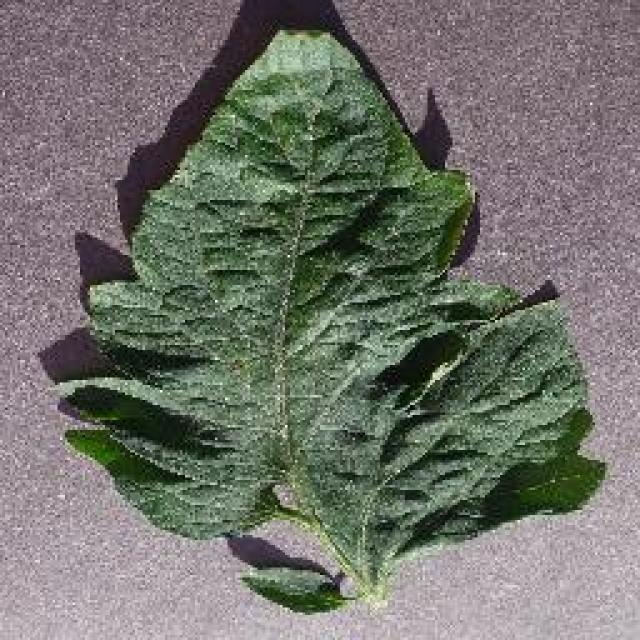Tomato___Target_Spot: (62, 30, 602, 610)
